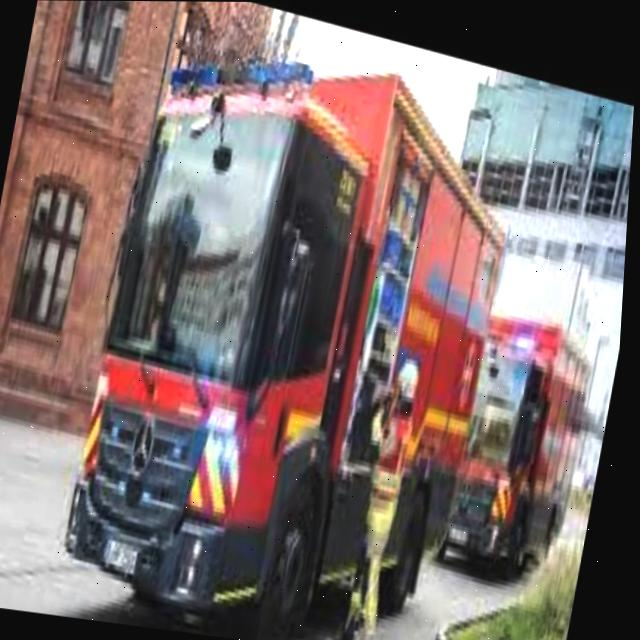emergency: (52, 35, 539, 640), (438, 306, 608, 585)
